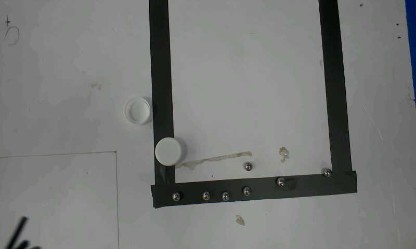ironball: (220, 191, 229, 201), (241, 186, 250, 196), (322, 168, 331, 177), (201, 191, 210, 200), (243, 161, 251, 171), (276, 177, 284, 187), (171, 192, 179, 201)
